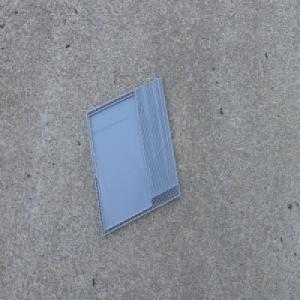PlasticPart: (84, 75, 181, 237)
